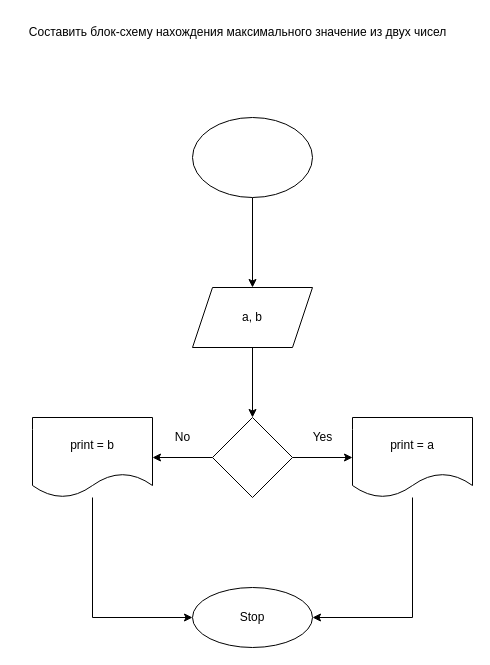
Image size: 490x665. Some labels were removed from this diagram. Each missing label, with the centre of its shape:
a > b: the point at 252,457
Start: the point at 252,157
